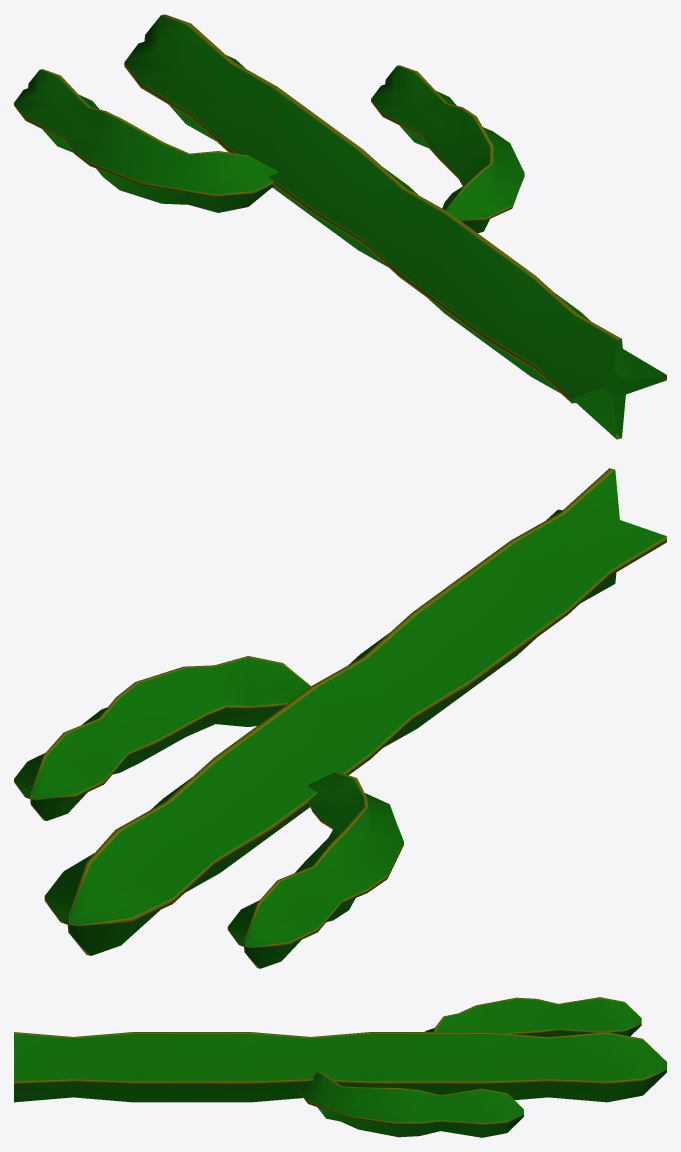
The model's file is Cactus_02_LOD1.fbx.
3 renders of one model, top to bottom at view 1: azimuth 30°, elevation 25°; view 2: azimuth 150°, elevation 25°; view 3: azimuth 270°, elevation 25°, orthographic. The views are drawn at different scales.
Visible parts, largest first — view 1: LP_Cactus_02_LOD1; view 2: LP_Cactus_02_LOD1; view 3: LP_Cactus_02_LOD1.
Boxes of the visible parts, <box> form: LP_Cactus_02_LOD1: <box>14,14,666,439</box>; LP_Cactus_02_LOD1: <box>14,468,666,968</box>; LP_Cactus_02_LOD1: <box>14,997,666,1137</box>.
Size of the model in its own units: 1.24 by 0.3477 by 3.
